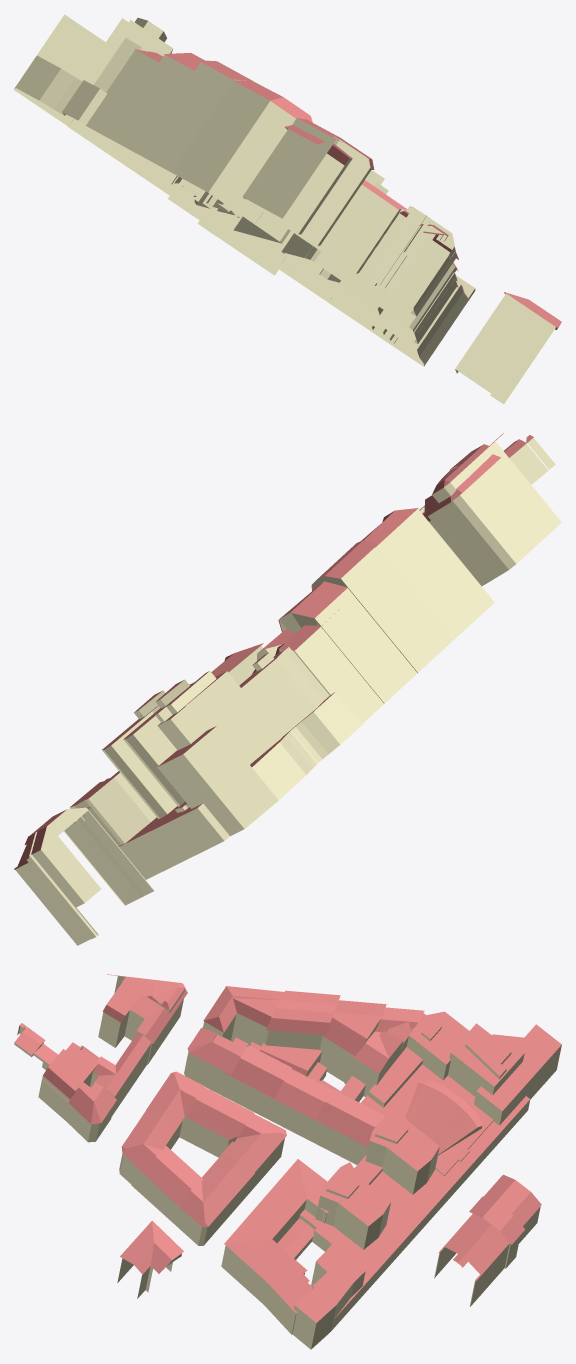
Rendered from tile_064.glb.
3 views of the same model, one above another, from view 1: azimuth 30°, elevation 25°; view 2: azimuth 150°, elevation 25°; view 3: azimuth 270°, elevation 25° (orthographic). The views are drawn at different scales.
Parts seen in each view (by area): view 1: Batched_Building_ID_774807CE-704E-42BD-923D-66F2F2EB0654; view 2: Batched_Building_ID_774807CE-704E-42BD-923D-66F2F2EB0654; view 3: Batched_Building_ID_774807CE-704E-42BD-923D-66F2F2EB0654.
Boxes of the visible parts, x1,y1,x2,y2 form: Batched_Building_ID_774807CE-704E-42BD-923D-66F2F2EB0654: (14, 14, 561, 404); Batched_Building_ID_774807CE-704E-42BD-923D-66F2F2EB0654: (14, 433, 561, 945); Batched_Building_ID_774807CE-704E-42BD-923D-66F2F2EB0654: (14, 974, 561, 1349).
Size of the model in its own units: 114 by 121 by 205.
